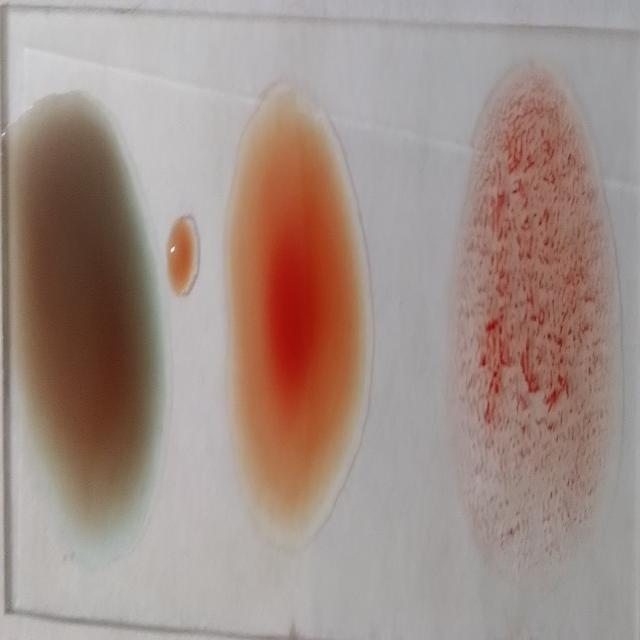D: (453, 62, 613, 590)
